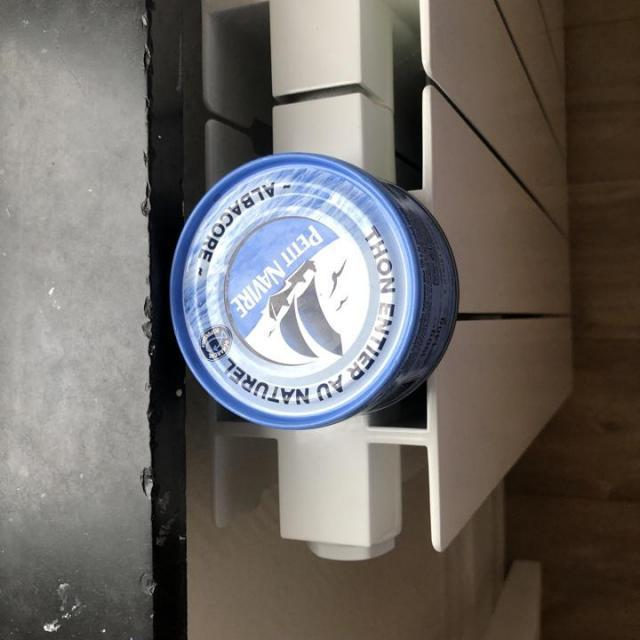recyclable: (168, 148, 464, 436)
